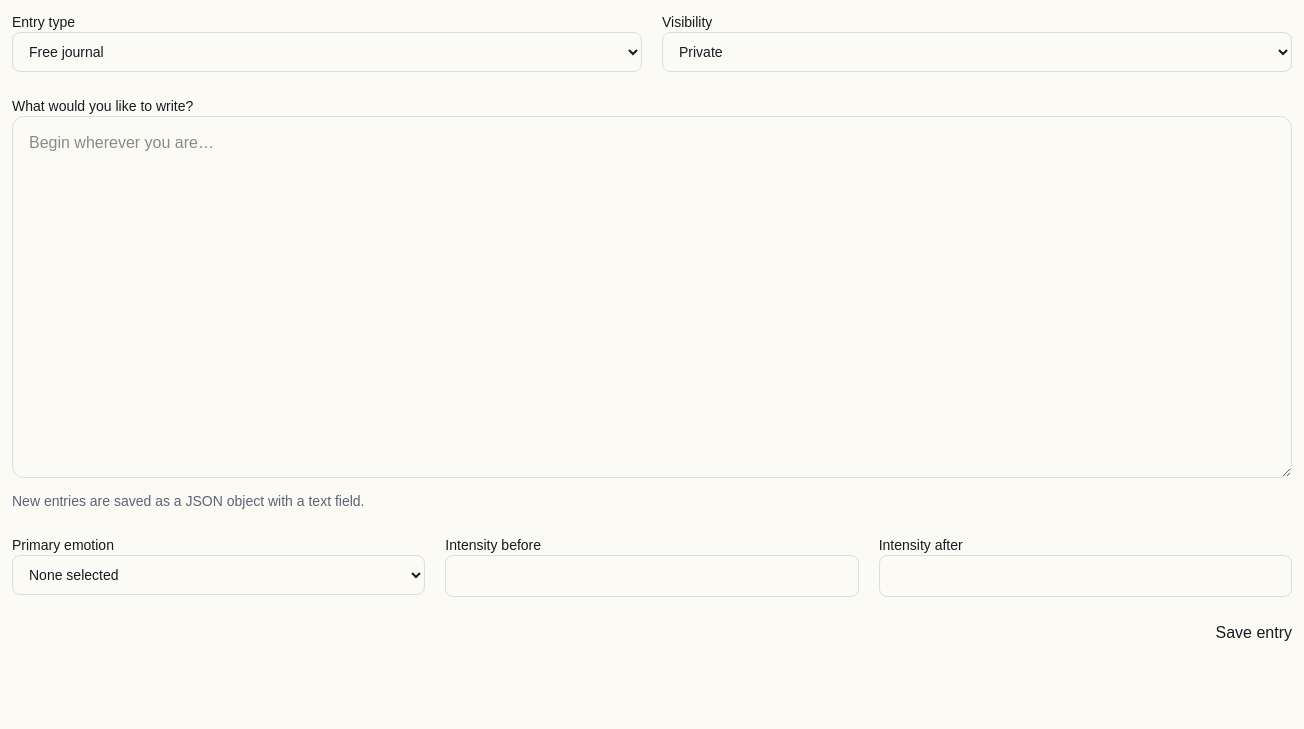
diary creation recipients › loads counselors without preselection and submits multiple relationship IDs
Later steps or results of the test are not shown.
Type "A diary entry" into the text box with placeholder "Begin wherever you are…". click: (652, 297)
box: 12,116 -> 1292,478
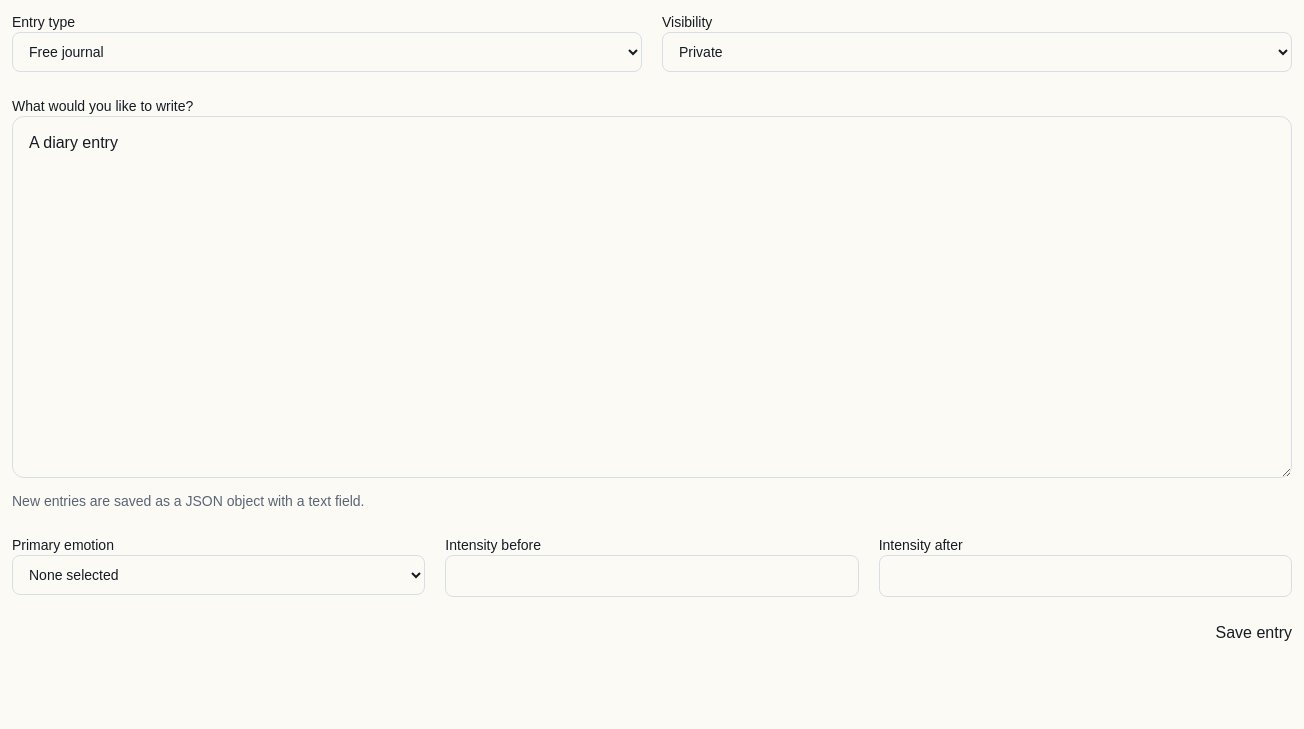
Select "Share with counselor" in the dropdown labelled "Visibility". click: (977, 52)
box: 662,32 -> 1292,72
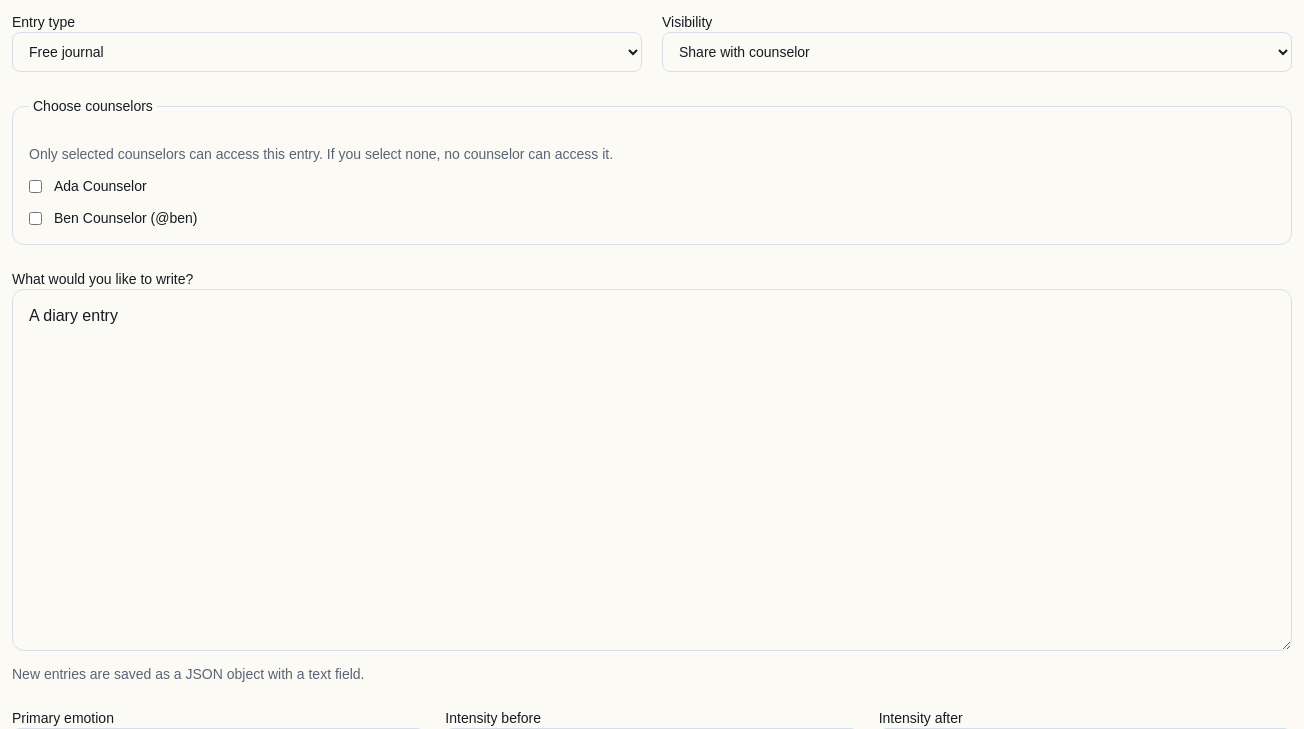
Check: the checkbox labelled "Ada Counselor" is not checked
Check: the checkbox labelled "Ben Counselor (@ben)" is not checked, box 29,212 -> 42,224
Click the checkbox labelled "Ada Counselor". click: (36, 186)
box: 29,180 -> 42,192
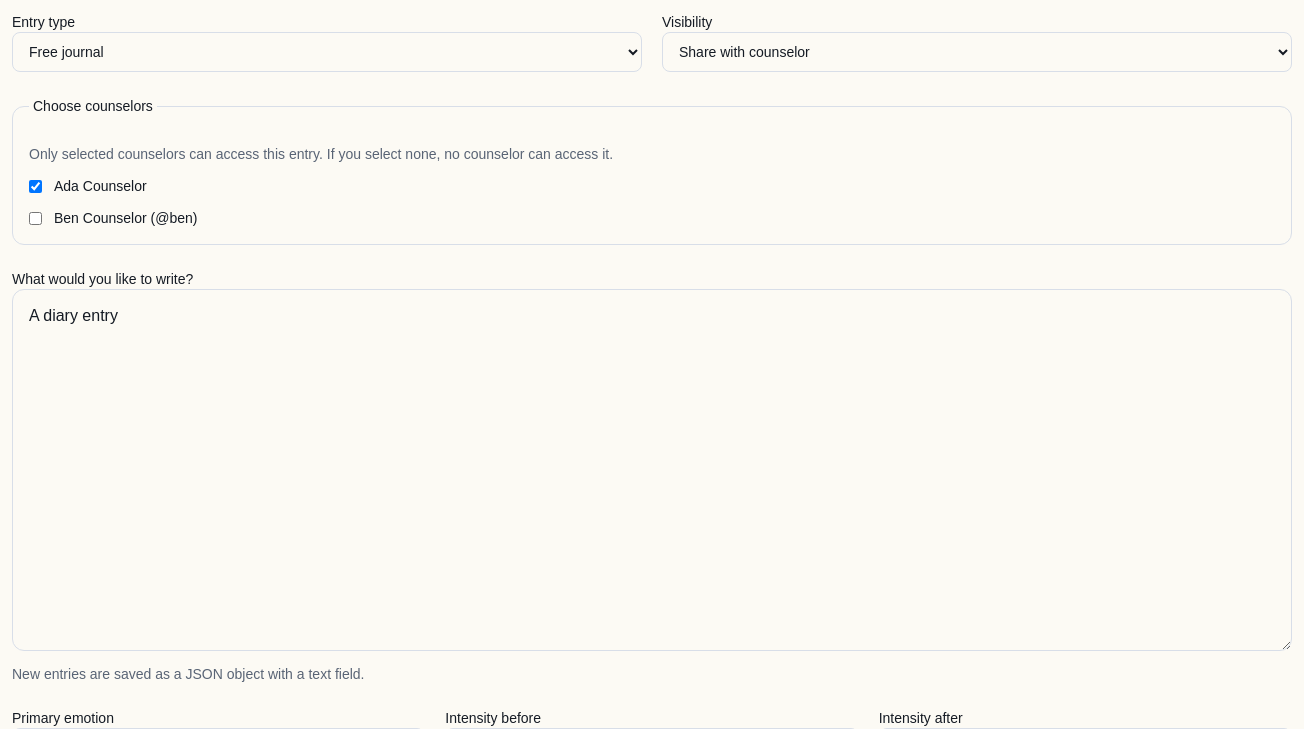
Click the checkbox labelled "Ben Counselor (@ben)". click: (36, 218)
box: 29,212 -> 42,224
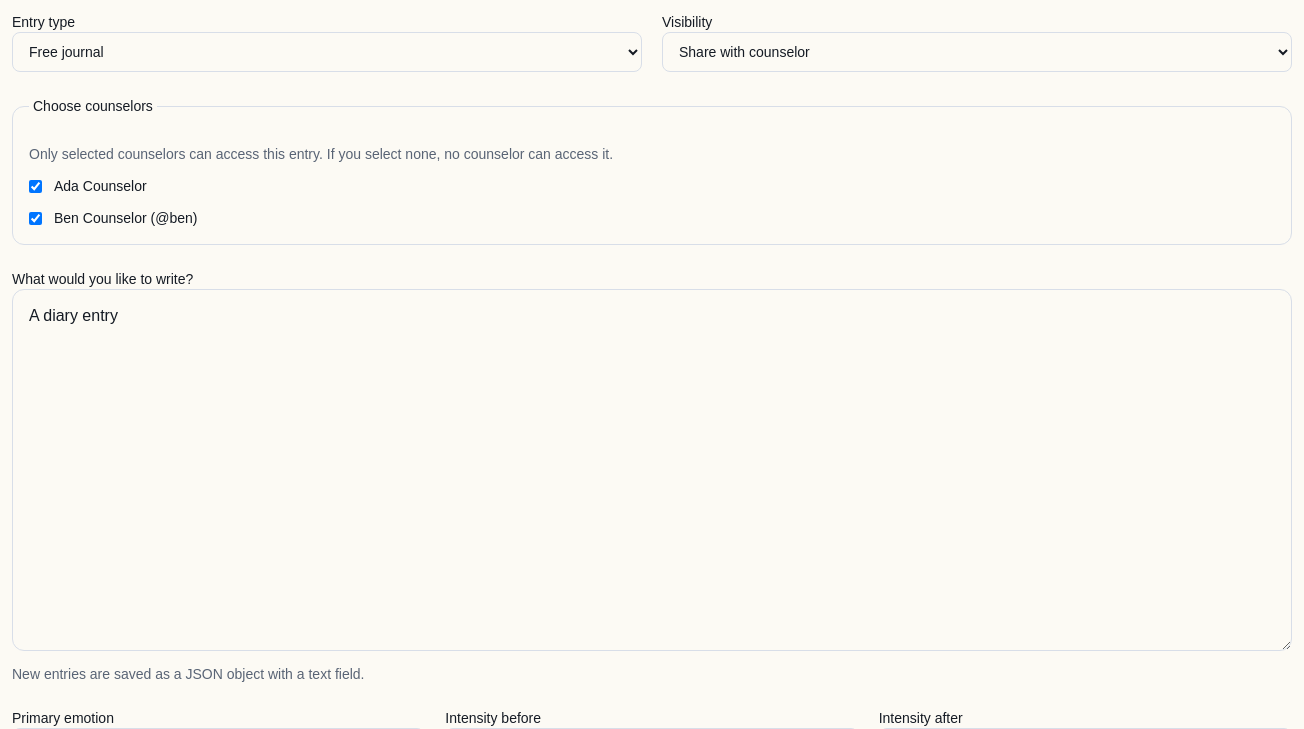
Click the checkbox labelled "Ada Counselor". click: (36, 186)
box: 29,180 -> 42,192
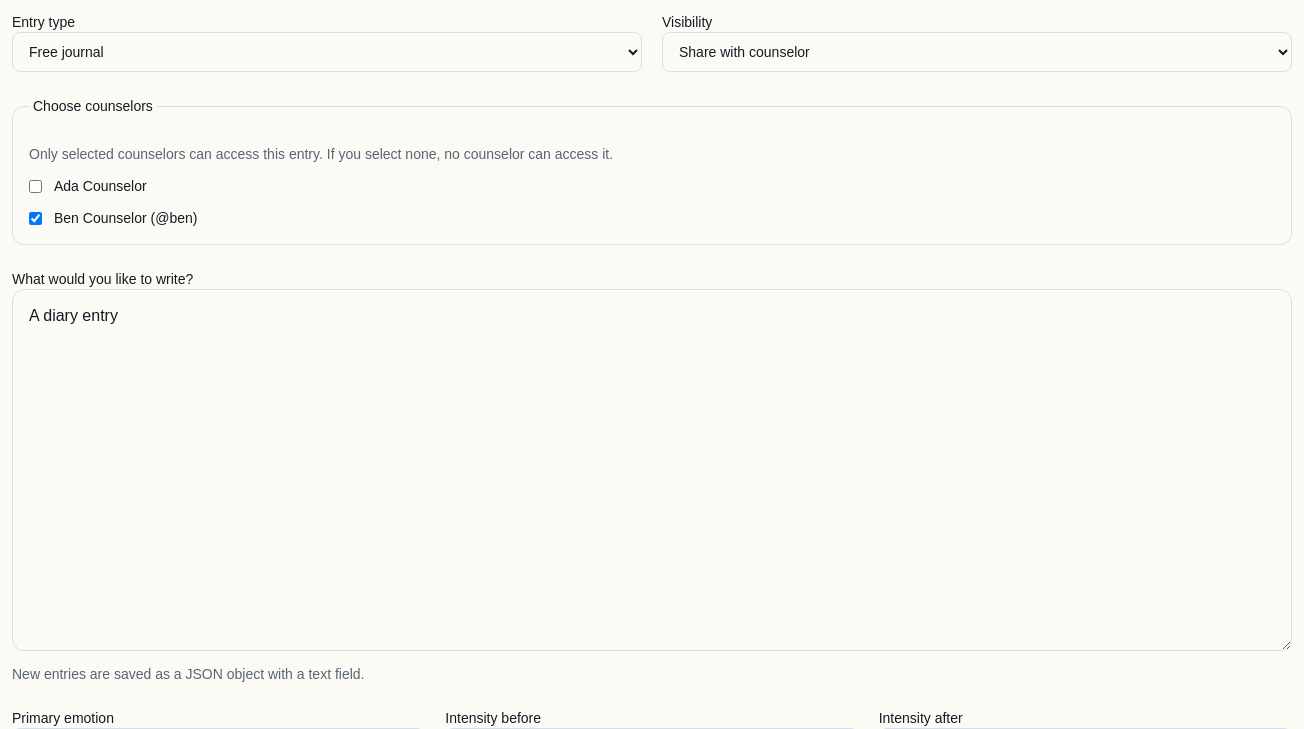
Check: the checkbox labelled "Ada Counselor" is not checked, box 29,180 -> 42,192
